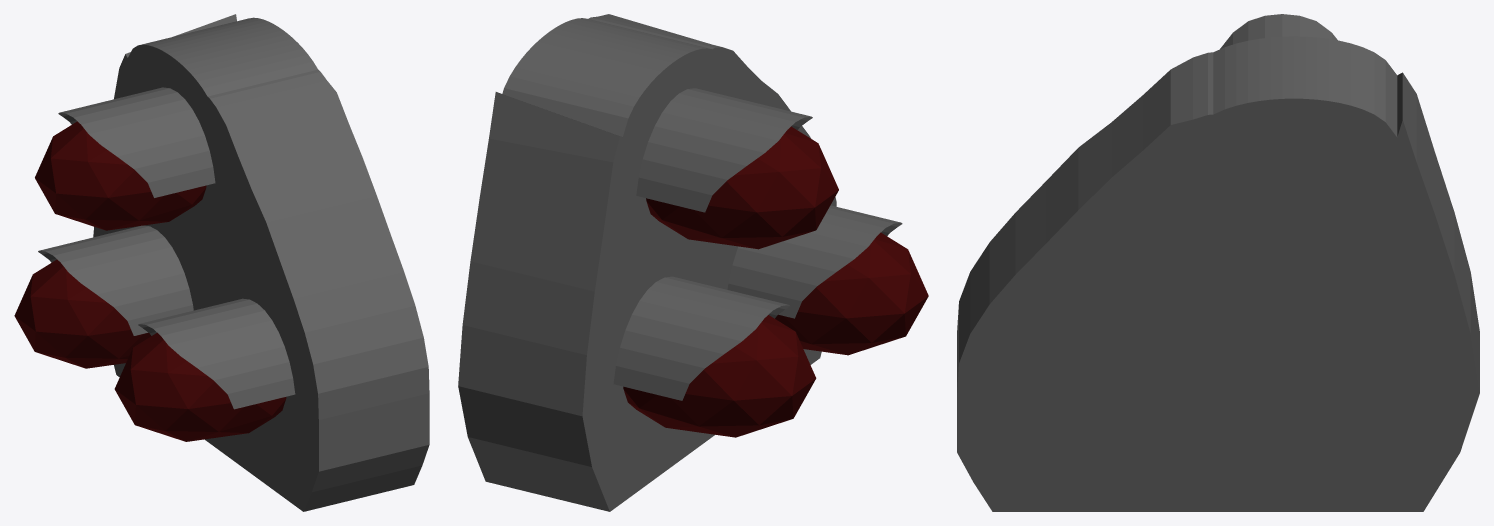
The model's file is calling-on-marker-colour-light.dae.
The picture shows the model from 3 angles, left to right: view 1: azimuth 30°, elevation 25°; view 2: azimuth 150°, elevation 25°; view 3: azimuth 270°, elevation 25°; orthographic projection. The views are drawn at different scales.
Parts seen in each view (by area): view 1: Cube_024, Cylinder_006, Cylinder_008, Icosphere_003, Icosphere_005, Cylinder_007, Icosphere_004; view 2: Cube_024, Cylinder_008, Cylinder_007, Icosphere_005, Icosphere_004, Icosphere_003, Cylinder_006; view 3: Cube_024, Cylinder_008.
Part boxes in pixels (x1=…): Cube_024: x1=93, y1=14, x2=429, y2=511; Cylinder_006: x1=138, y1=298, x2=295, y2=409; Cylinder_008: x1=58, y1=87, x2=215, y2=197; Icosphere_003: x1=114, y1=332, x2=286, y2=441; Icosphere_005: x1=35, y1=121, x2=206, y2=230; Cylinder_007: x1=38, y1=225, x2=193, y2=335; Icosphere_004: x1=14, y1=259, x2=151, y2=368; Cube_024: x1=458, y1=14, x2=836, y2=511; Cylinder_008: x1=636, y1=88, x2=812, y2=212; Cylinder_007: x1=613, y1=276, x2=789, y2=400; Icosphere_005: x1=646, y1=126, x2=838, y2=249; Icosphere_004: x1=623, y1=315, x2=816, y2=437; Icosphere_003: x1=775, y1=232, x2=928, y2=355; Cylinder_006: x1=727, y1=205, x2=902, y2=318; Cube_024: x1=957, y1=36, x2=1479, y2=511; Cylinder_008: x1=1220, y1=14, x2=1337, y2=48.
Size of the model in its own units: 0.2467 by 0.3994 by 0.3485.
